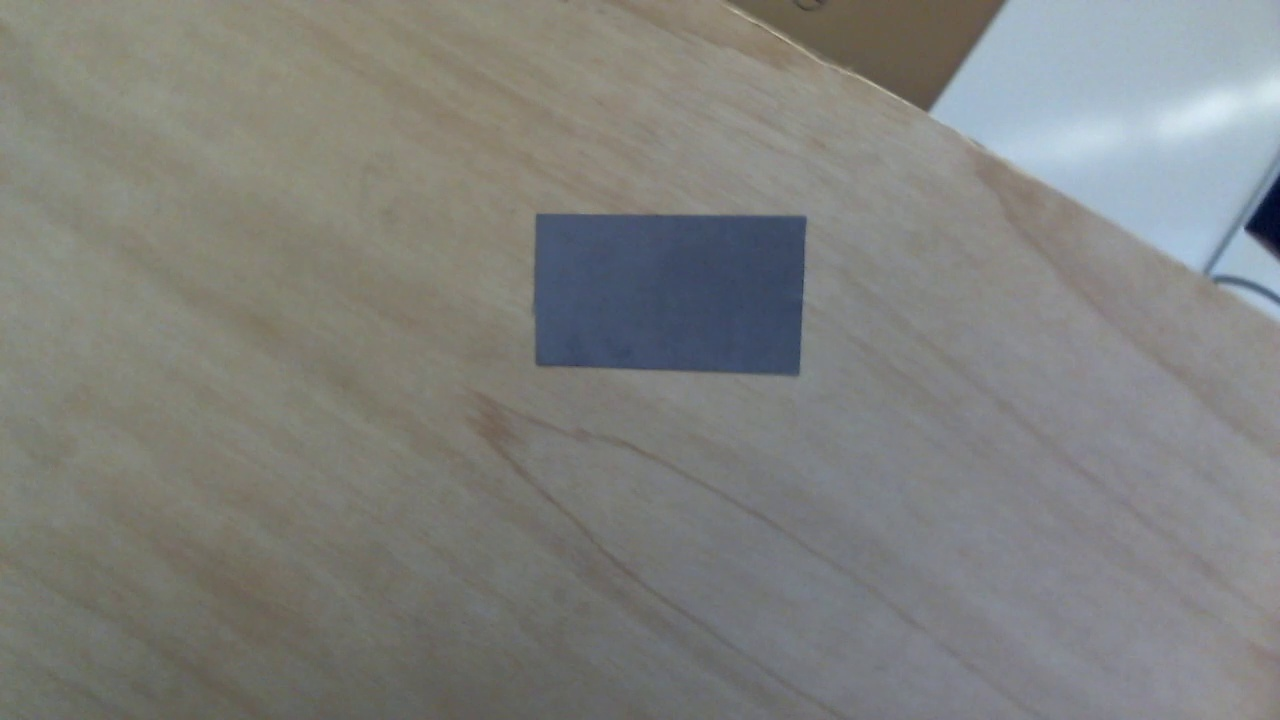Tape: (534, 209, 809, 378)
